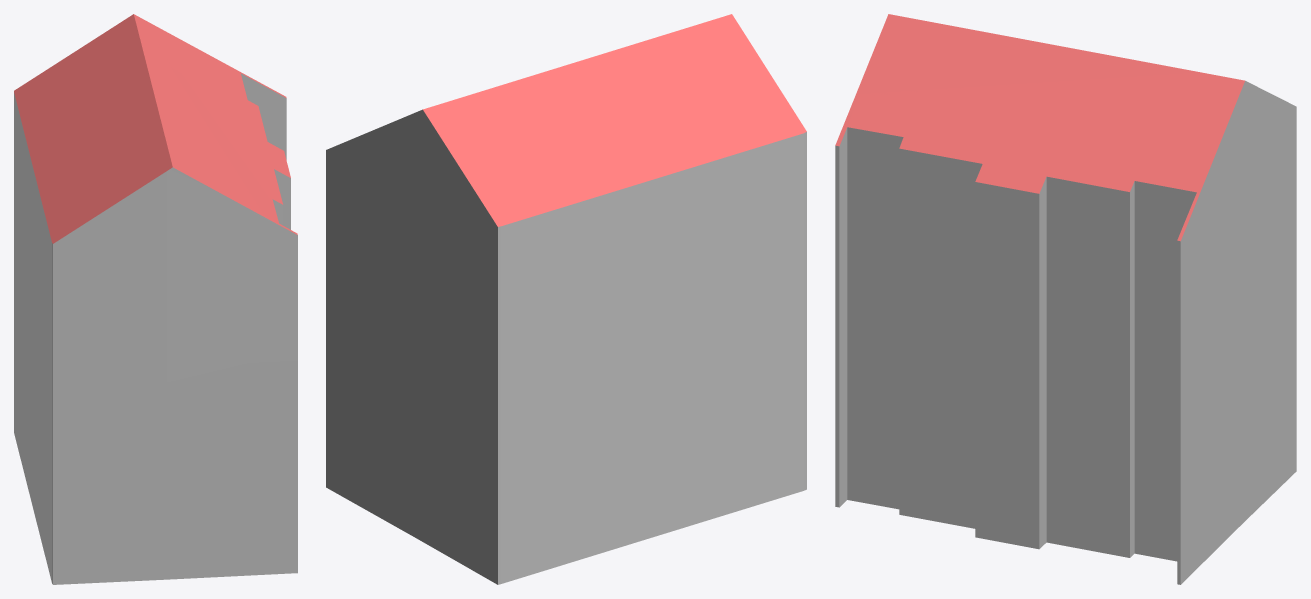
File: DEBY_LOD2_4907039.gltf
3 views of the same model, side by side, from view 1: azimuth 30°, elevation 25°; view 2: azimuth 150°, elevation 25°; view 3: azimuth 270°, elevation 25° (orthographic). The views are drawn at different scales.
Parts seen in each view (by area): view 1: Z_UP; view 2: Z_UP; view 3: Z_UP.
Part boxes in pixels (left/top/right/bottom): Z_UP: left=14, top=14, right=297, bottom=584; Z_UP: left=326, top=14, right=806, bottom=584; Z_UP: left=835, top=14, right=1296, bottom=584.
Bounding box in the file's own units: 18.98 × 21.62 × 20.53.
